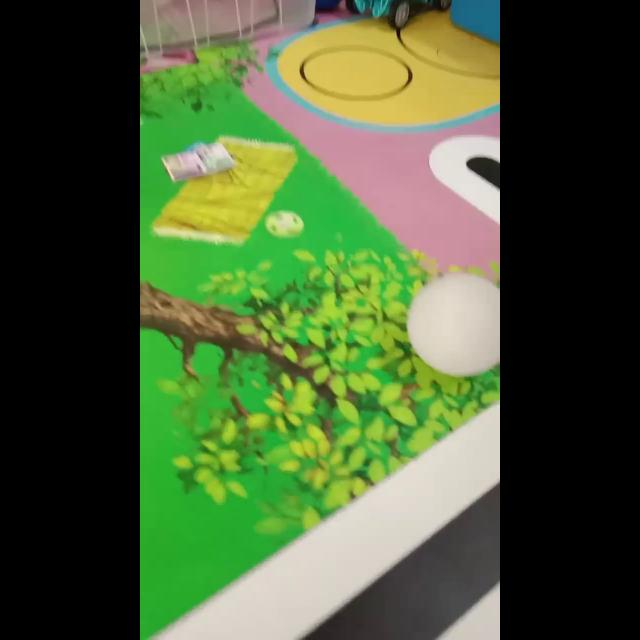white ball: (406, 270, 498, 378)
